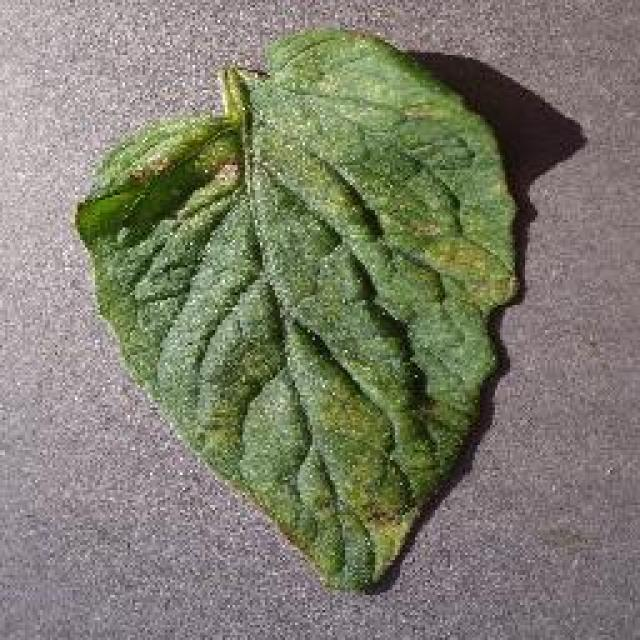Tomato___Spider_mites Two-spotted_spider_mite: (75, 30, 518, 588)
